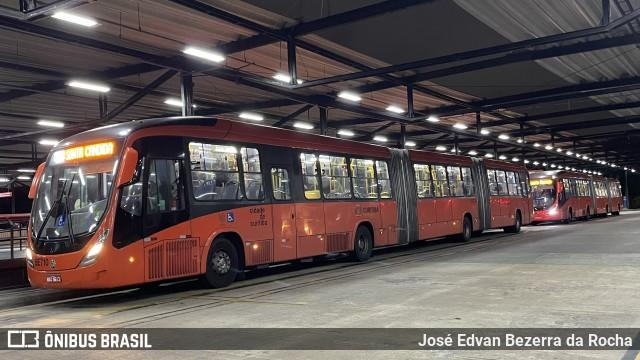SANTA CANDIDA: (64, 138, 114, 161)
